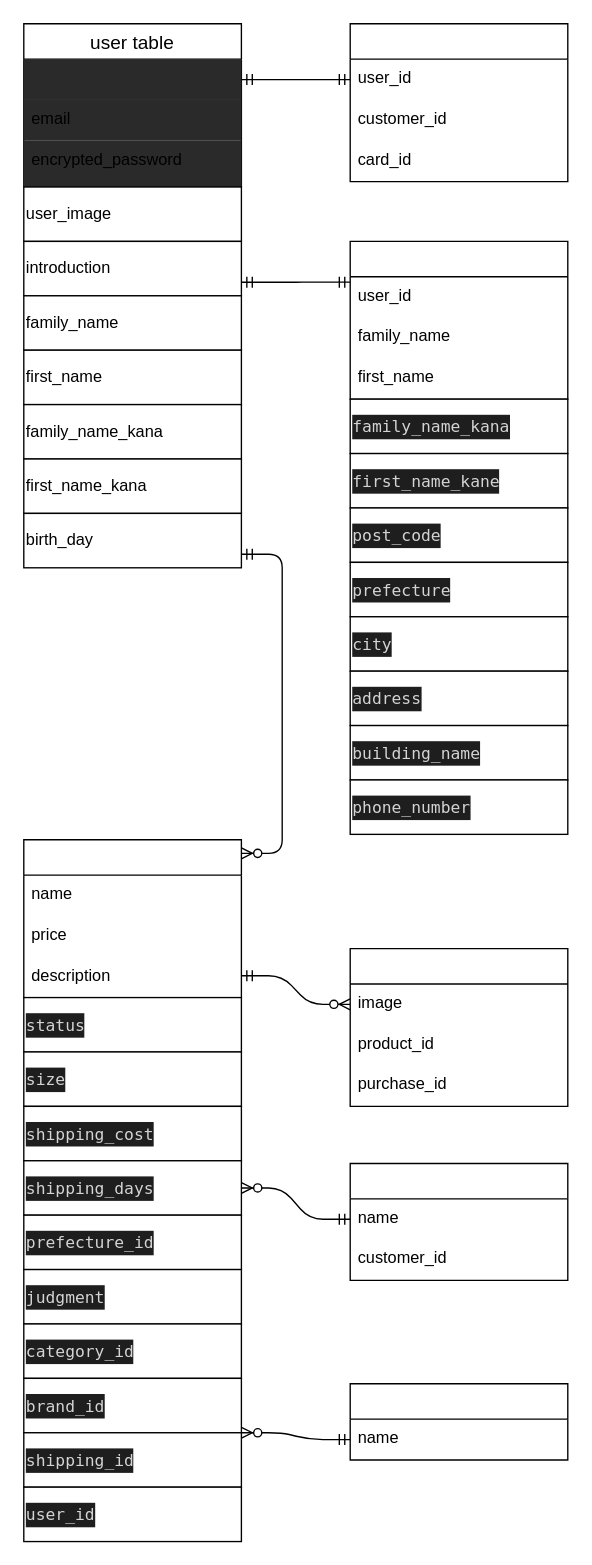
This 592x1565 diagram has some shape labels left out. Each missing label, with the box of its shape:
brand table: (349, 1382, 568, 1460)
card table: (349, 22, 568, 182)
categoryカテゴリー table: (349, 1162, 568, 1280)
destination買い手 table: (349, 240, 568, 399)
image table: (349, 947, 568, 1106)
nikname: (23, 58, 241, 99)
product出品 table: (22, 838, 241, 998)
